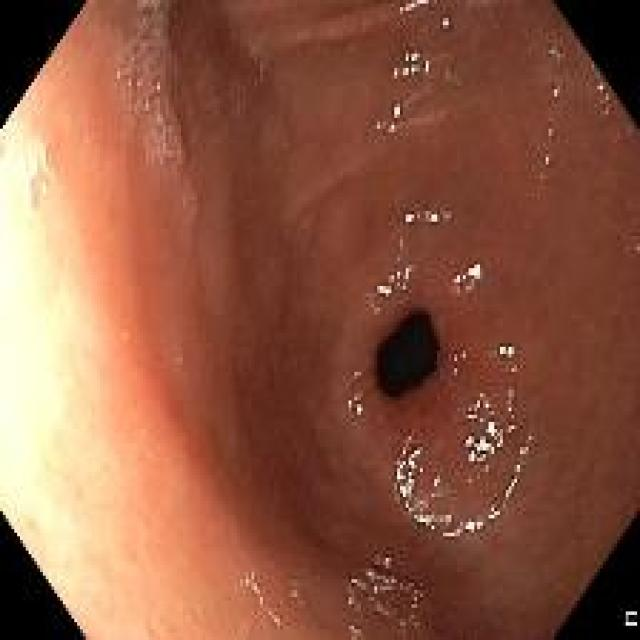bubbles: (118, 32, 181, 166), (136, 2, 168, 28), (441, 348, 467, 380), (30, 170, 50, 209), (443, 68, 462, 88), (184, 180, 198, 204), (549, 44, 564, 61), (233, 96, 247, 110), (174, 352, 188, 365), (582, 58, 596, 71), (601, 104, 612, 120), (437, 108, 450, 121), (597, 90, 609, 104), (275, 136, 287, 149), (505, 361, 518, 373), (589, 81, 604, 91), (505, 387, 514, 399)
contrast: (375, 306, 439, 399)
saturation: (0, 103, 121, 598)
specularity: (393, 443, 425, 514), (464, 431, 497, 472), (392, 49, 430, 83), (465, 394, 493, 426), (485, 416, 505, 449), (414, 510, 438, 532), (388, 269, 411, 291), (462, 516, 485, 533), (347, 396, 367, 415), (399, 0, 430, 12), (503, 476, 519, 498), (485, 505, 503, 522), (443, 523, 462, 539), (466, 261, 481, 280), (392, 102, 403, 120), (375, 286, 392, 297), (454, 274, 467, 286), (497, 345, 513, 354), (430, 475, 442, 486), (513, 462, 521, 477), (384, 553, 393, 564), (430, 211, 438, 223), (405, 214, 415, 223), (442, 17, 448, 28)
